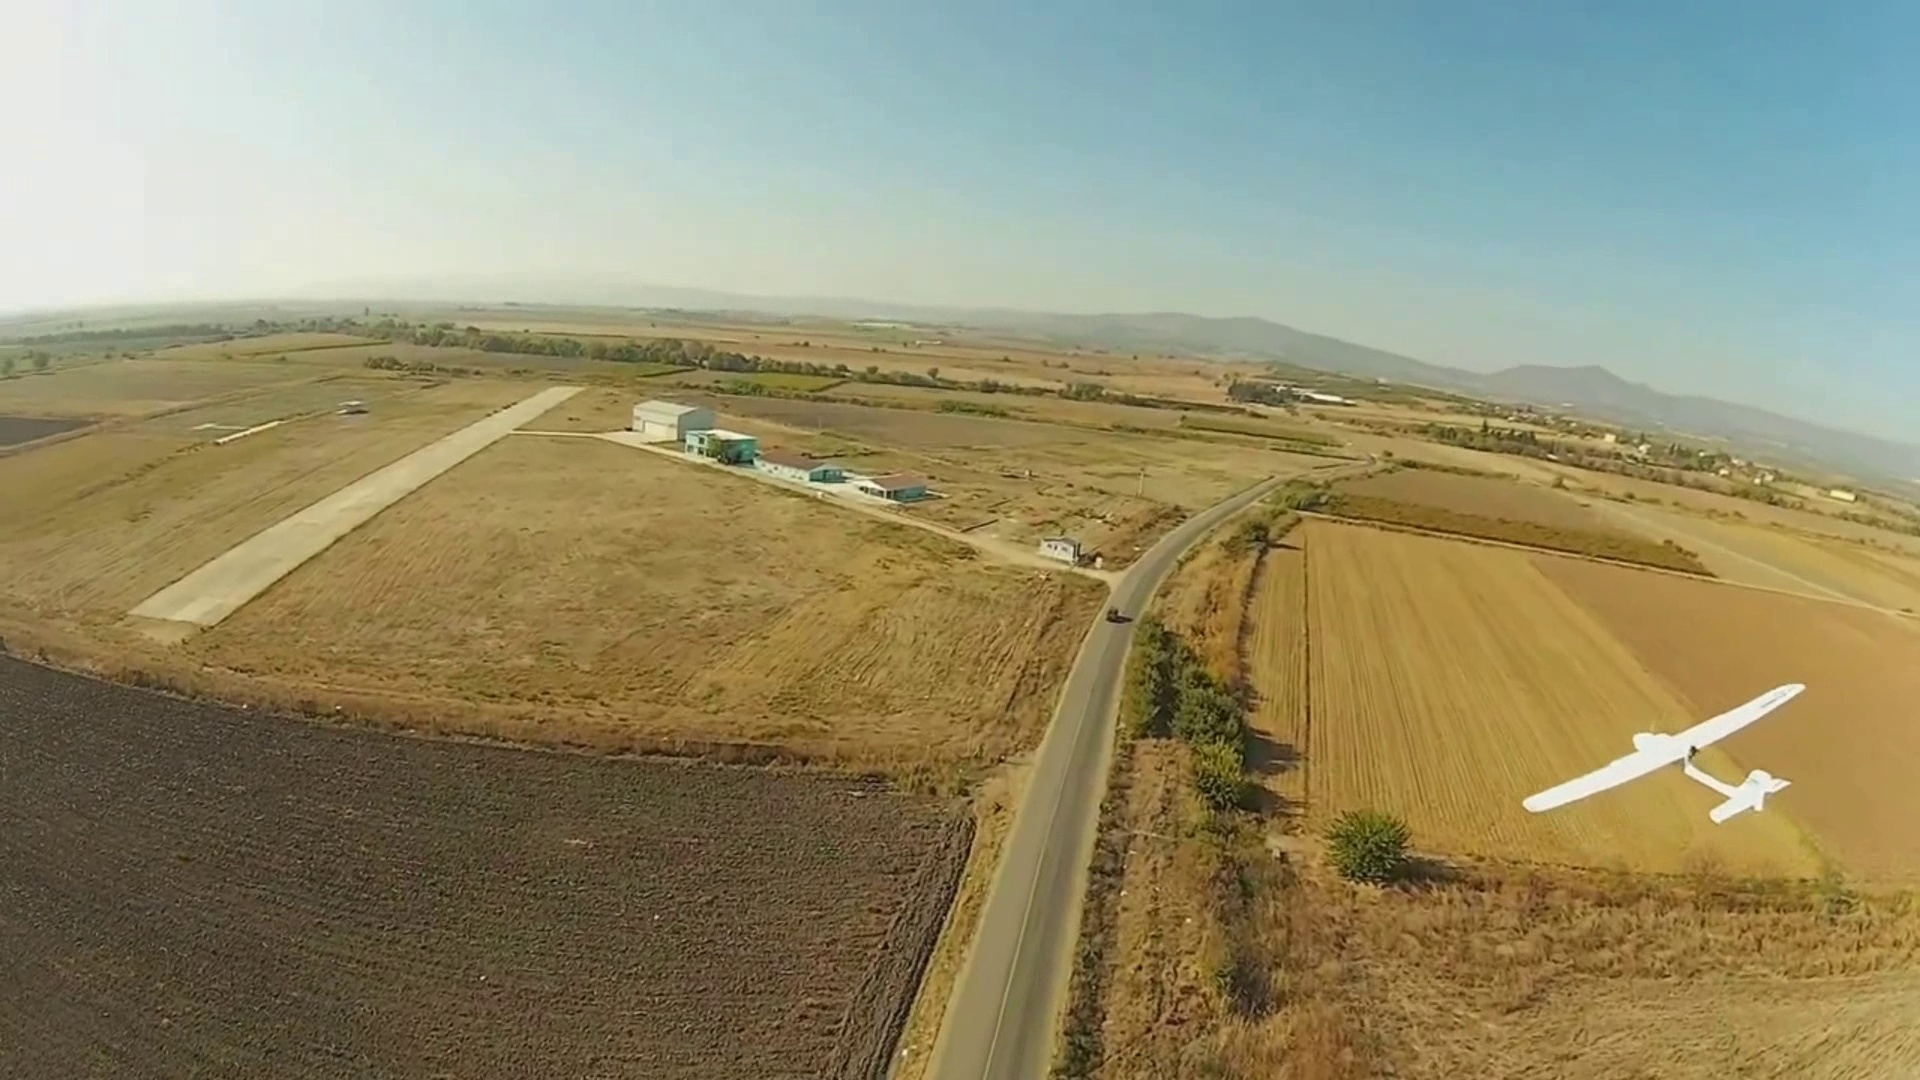airplane: (1523, 682, 1806, 828)
